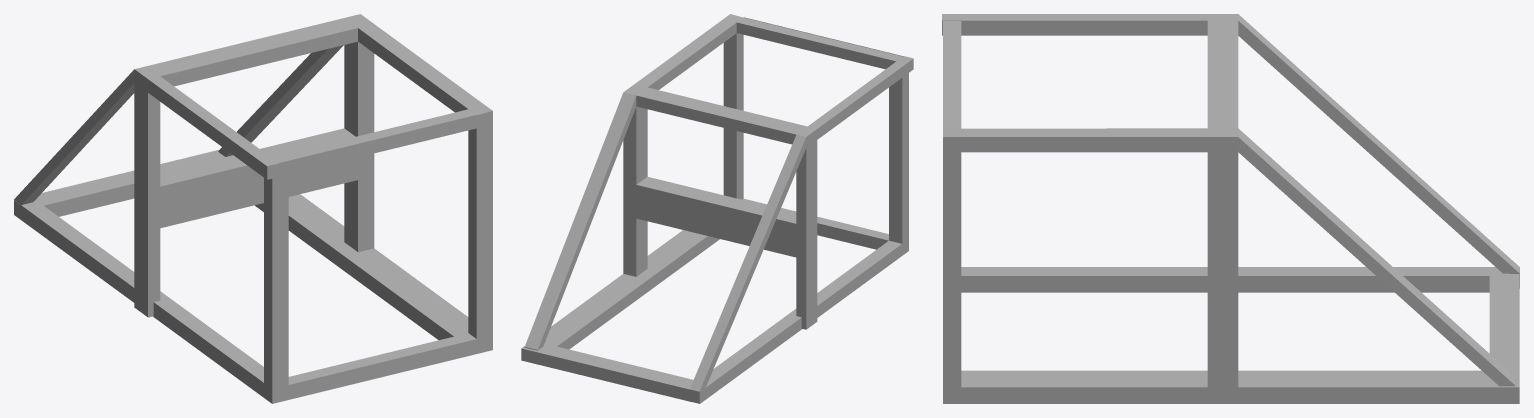
File: Autopilot-Block_Small_Constr1.fbx
3 renders of one model, left to right at view 1: azimuth 30°, elevation 25°; view 2: azimuth 150°, elevation 25°; view 3: azimuth 270°, elevation 25°, orthographic. The views are drawn at different scales.
Parts seen in each view (by area): view 1: Cube; view 2: Cube; view 3: Cube.
Boxes of the visible parts, x1,y1,x2,y2 form: Cube: [14, 14, 492, 403]; Cube: [521, 14, 913, 403]; Cube: [942, 14, 1519, 403].
Bounding box in the file's own units: 0.4859 × 0.4912 × 0.9636.
